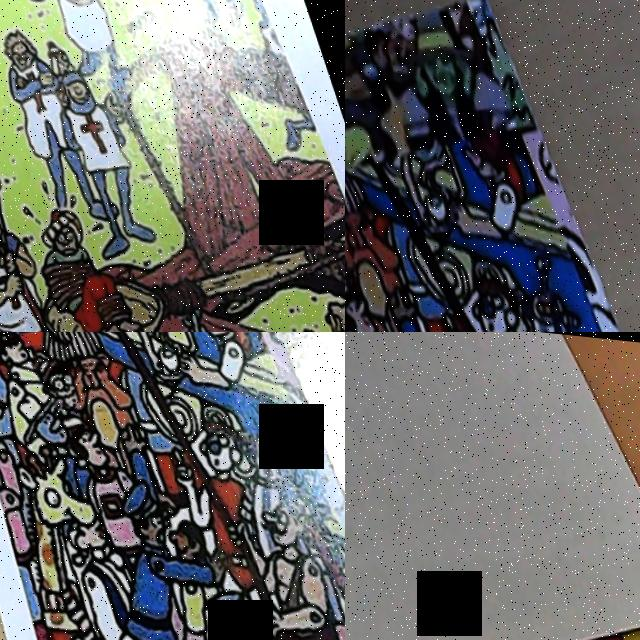waldo: (28, 342, 81, 408), (507, 620, 573, 640)
